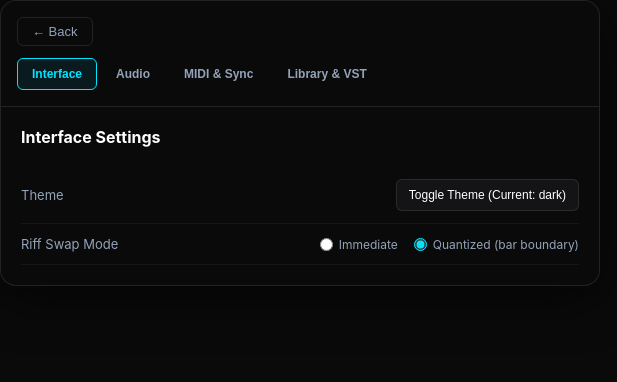
it: SettingsPanel › switches between tabs
This screenshot has width=617, height=382.
Click the button "Audio".
click(133, 74)  # box [101,58,165,90]
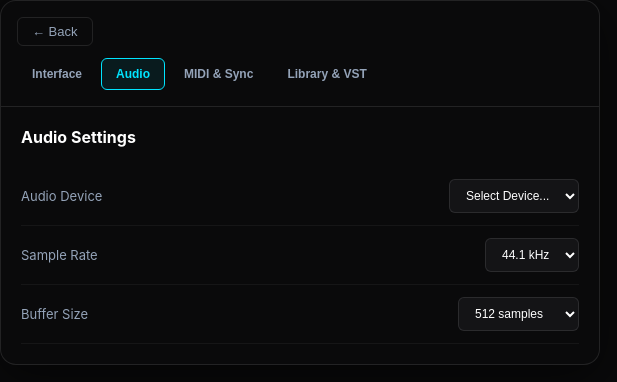
Now the heading "Audio Settings" is shown, box [21,127,136,147]
